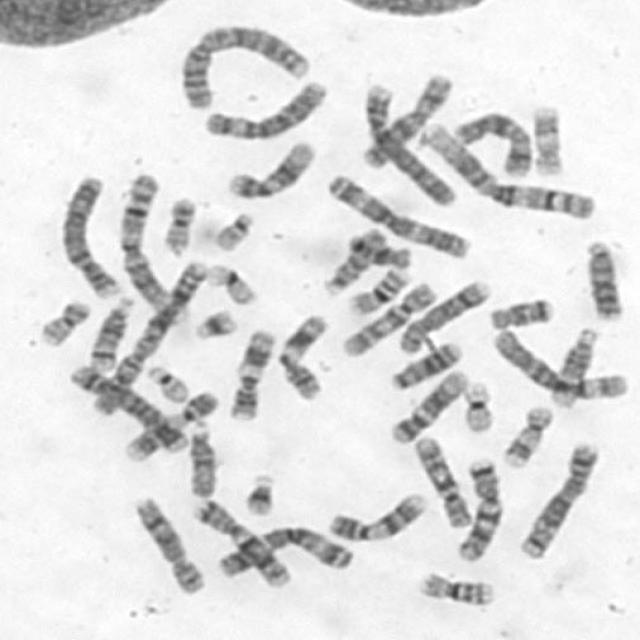A1: (415, 120, 597, 221), (114, 170, 192, 320)
A2: (86, 256, 212, 417), (177, 22, 316, 113)
A3: (324, 170, 472, 260), (215, 522, 355, 580)
B4: (358, 77, 458, 209), (56, 172, 120, 299)
B5: (64, 361, 188, 455), (514, 438, 602, 561)
C10: (336, 279, 436, 359), (410, 432, 473, 530)
C11: (275, 310, 330, 402), (225, 325, 277, 422)
C12: (384, 366, 470, 446), (222, 136, 318, 201)
C6: (488, 325, 630, 401), (200, 76, 331, 141)
C7: (190, 496, 292, 589), (450, 454, 505, 563)
C8: (129, 492, 207, 596), (394, 276, 494, 354)
C9: (120, 387, 222, 462), (324, 488, 429, 544)
D13: (384, 338, 463, 390), (582, 236, 622, 320)
D14: (545, 324, 601, 409), (85, 291, 136, 374)
D15: (320, 224, 388, 296), (184, 416, 218, 499)
E16: (344, 264, 414, 316), (414, 569, 497, 607)
E17: (497, 402, 554, 469), (528, 100, 566, 178)
E18: (344, 228, 412, 270), (484, 294, 556, 330)
F19: (202, 260, 260, 307), (458, 377, 498, 435)
F20: (34, 297, 91, 348), (160, 195, 198, 260)
G21: (189, 305, 239, 342), (240, 470, 278, 517)
G22: (208, 208, 256, 253), (142, 361, 191, 404)
X: (359, 70, 457, 170), (450, 108, 534, 178)
